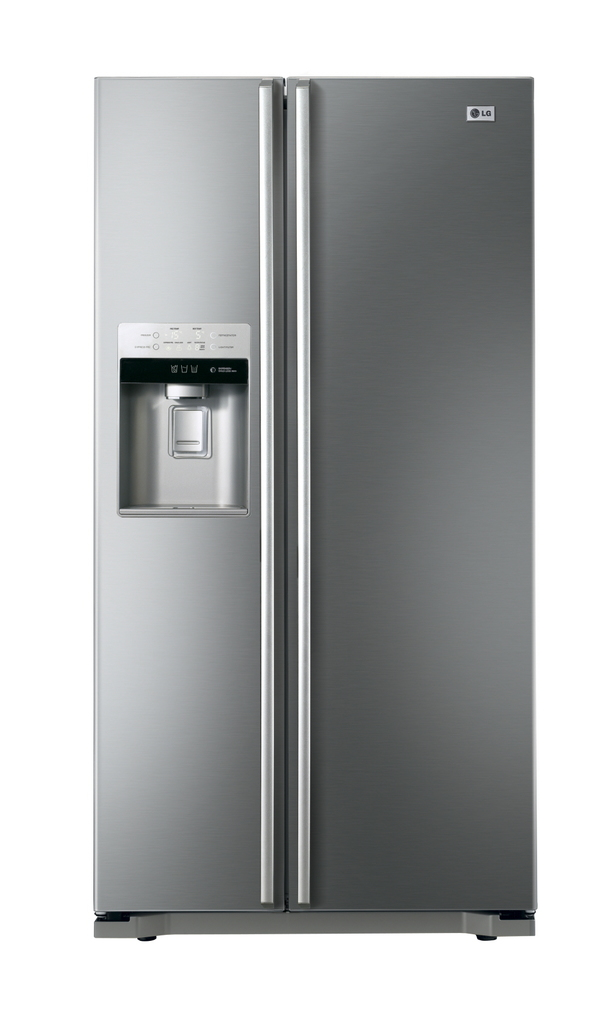handle: (252, 91, 283, 912), (290, 78, 320, 902)
refrigerator door: (286, 87, 537, 906), (98, 82, 281, 916)
